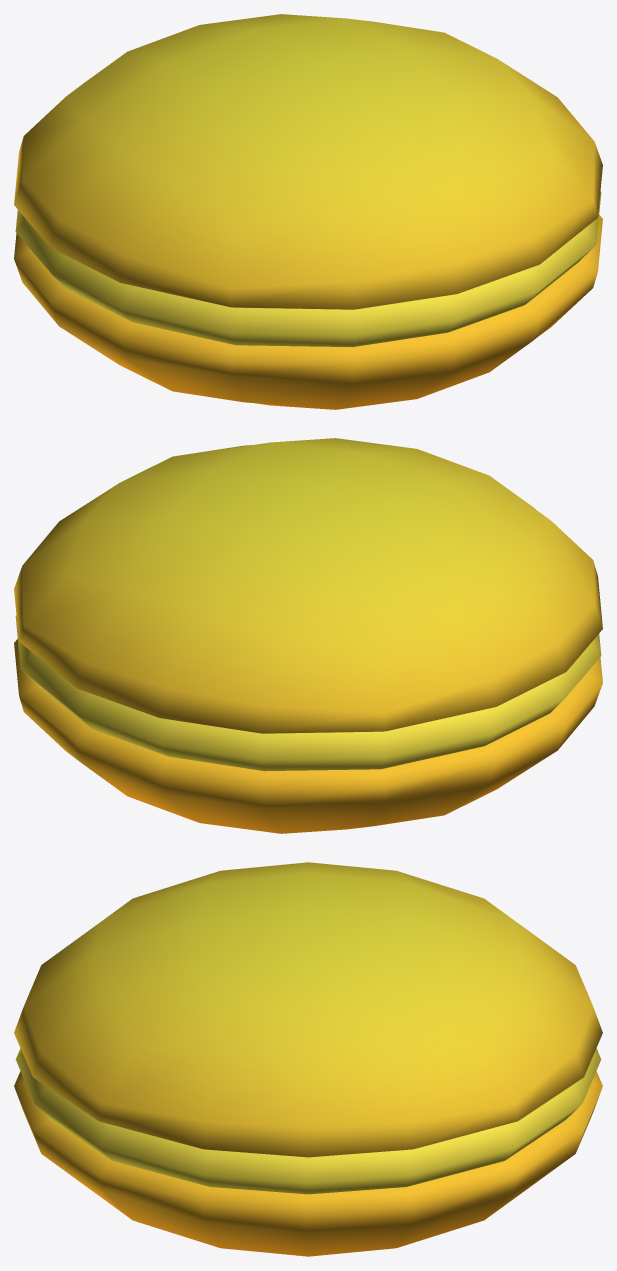
The model's file is cookie_011.fbx.
3 renders of one model, top to bottom at view 1: azimuth 30°, elevation 25°; view 2: azimuth 150°, elevation 25°; view 3: azimuth 270°, elevation 25°, orthographic.
Parts seen in each view (by area): view 1: cookie_011; view 2: cookie_011; view 3: cookie_011.
Boxes of the visible parts, x1,y1,x2,y2 form: cookie_011: (14, 14, 602, 409); cookie_011: (14, 438, 602, 833); cookie_011: (14, 862, 602, 1256).
Size of the model in its own units: 5.37 by 5.37 by 3.02.
